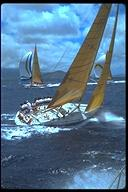sailboat: (12, 3, 120, 129), (29, 41, 48, 89), (92, 52, 116, 86), (17, 49, 34, 88)
sky: (2, 4, 81, 42)
water: (2, 130, 107, 187)
